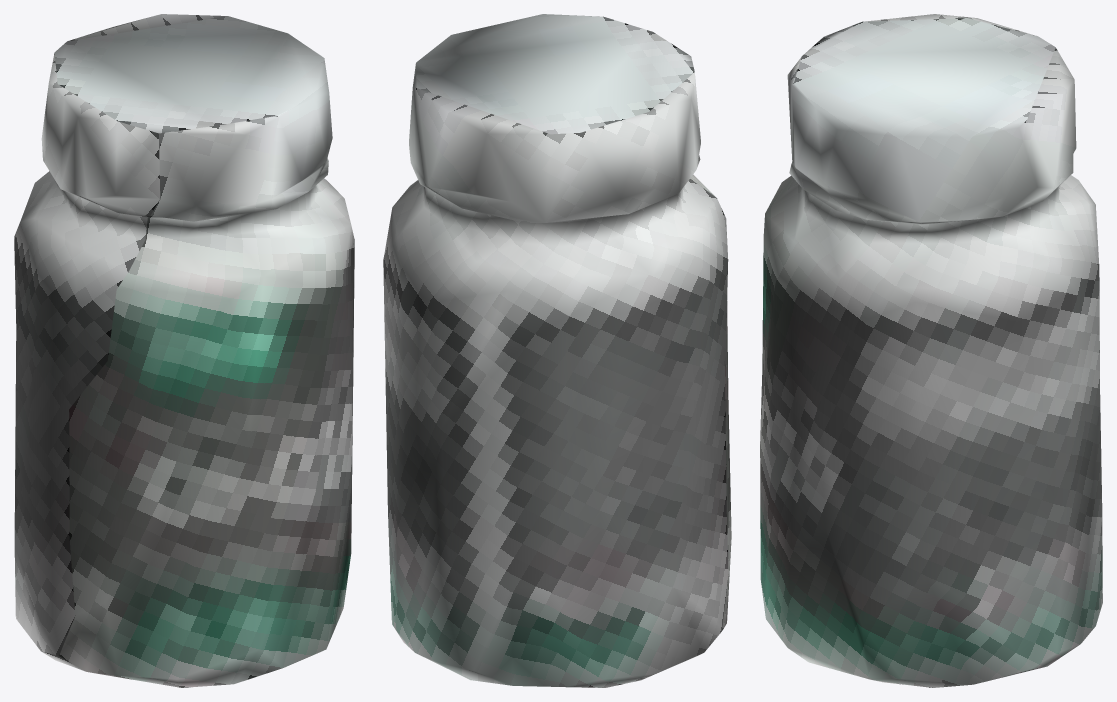
The model's file is CoQ10-low.glb.
3 views of the same model, side by side, from view 1: azimuth 30°, elevation 25°; view 2: azimuth 150°, elevation 25°; view 3: azimuth 270°, elevation 25° (orthographic).
Parts seen in each view (by area): view 1: CoQ10; view 2: CoQ10; view 3: CoQ10.
Part boxes in pixels (left/top/right/bottom): CoQ10: left=14, top=14, right=354, bottom=687; CoQ10: left=383, top=14, right=731, bottom=687; CoQ10: left=760, top=14, right=1102, bottom=687.
Size of the model in its own units: 0.0471 by 0.0841 by 0.0472.
1 material, 1 textured.
